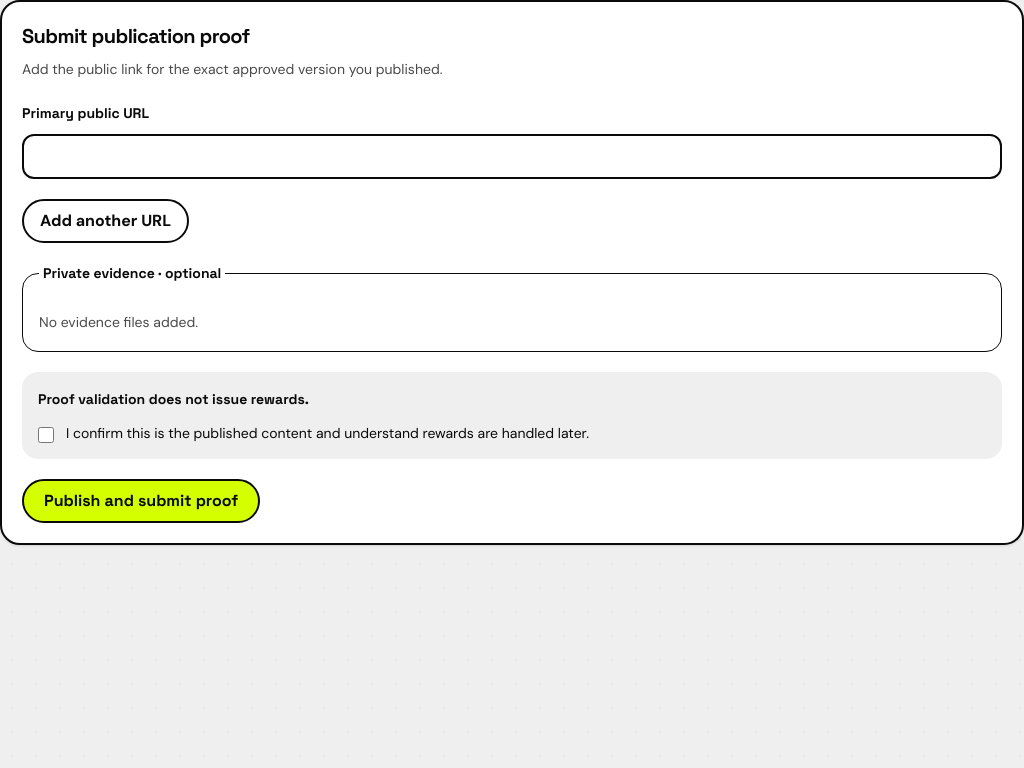
Test: ProofSubmissionForm › validates and focuses the required primary URL, then adds and removes optional URLs
This screenshot has width=1024, height=768.
Click the button "Publish and submit proof" at (141, 501), box x1=22 y1=479 x2=260 y2=524
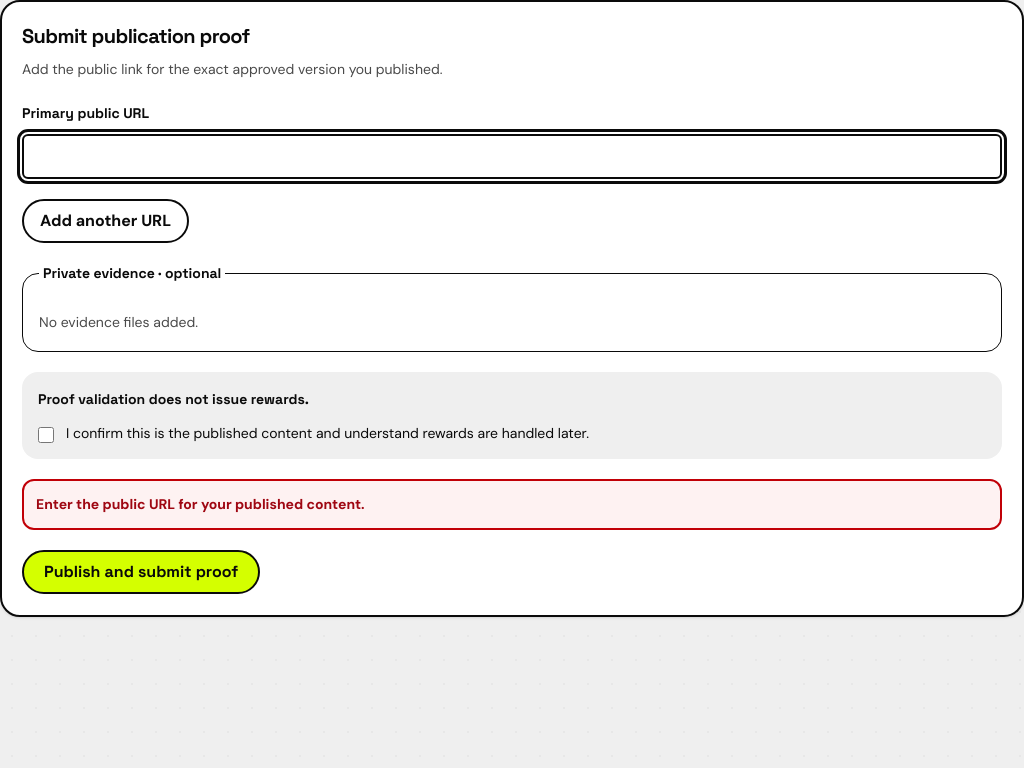
Now the text "Enter the public URL for your published content." is shown, box x1=22 y1=479 x2=1002 y2=530
Click the button "Add another URL" at (106, 221), box x1=22 y1=199 x2=189 y2=244
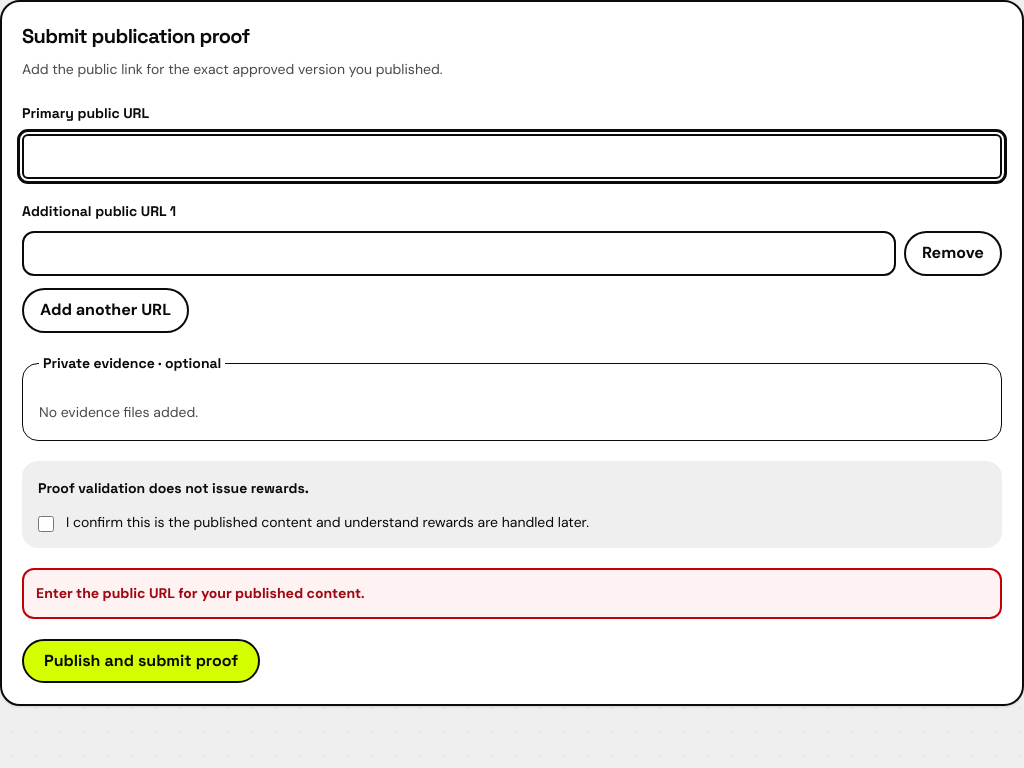
Type "https://www.instagram.com/p/extra" into the field labelled "Additional public URL 1" at (459, 254), box x1=22 y1=232 x2=896 y2=276
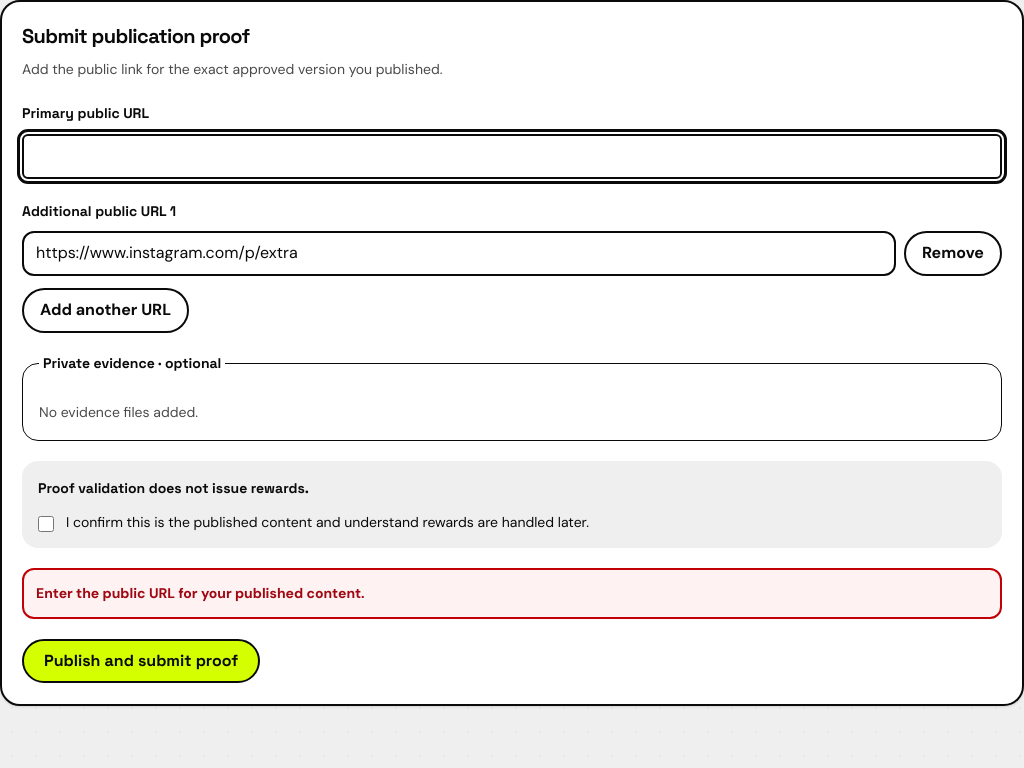
Click the button with aria-label "Remove additional URL 1" at (953, 254), box x1=904 y1=232 x2=1002 y2=276
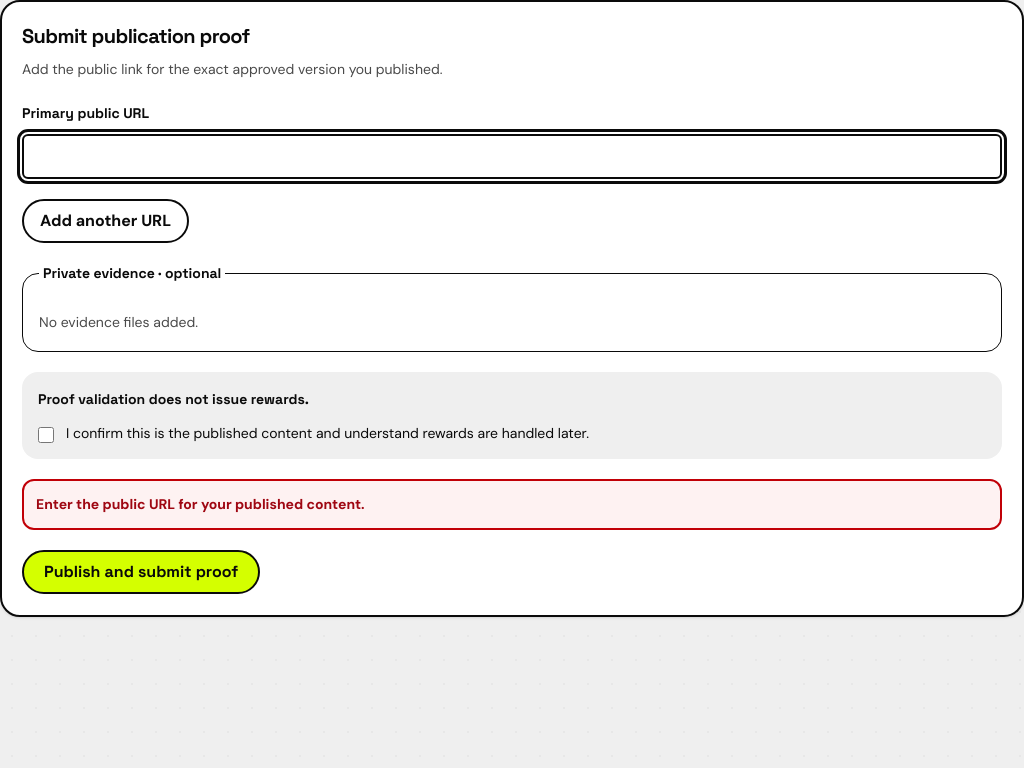
Now the label labelled "Additional public URL 1" is gone
